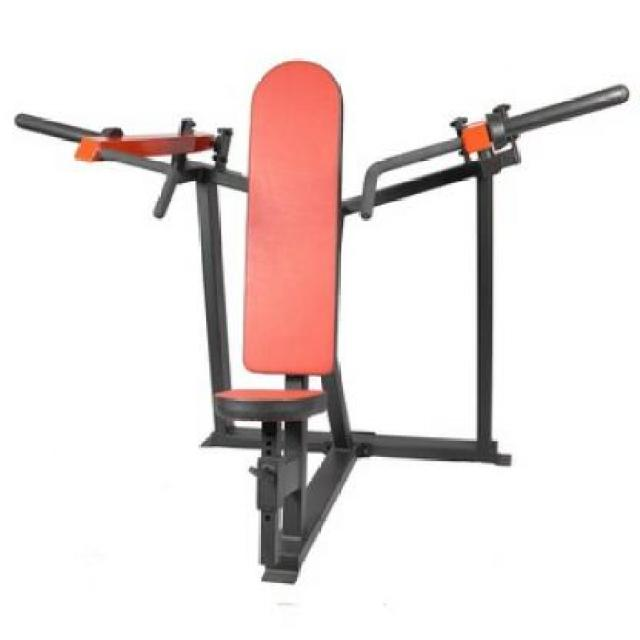shoulder press machine: (8, 29, 632, 605)
